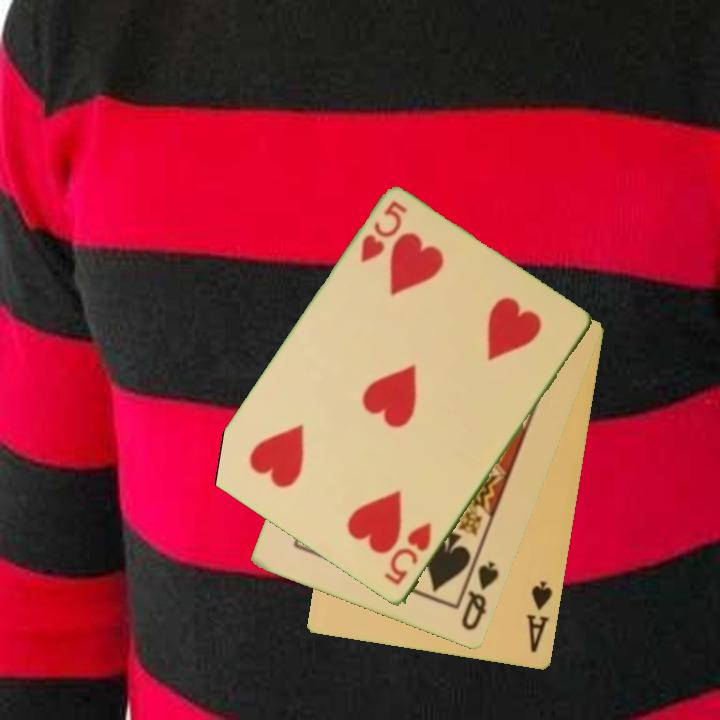5h: (381, 519, 435, 589), (357, 198, 410, 267)
As: (523, 577, 556, 656)
Qs: (458, 558, 502, 634)
